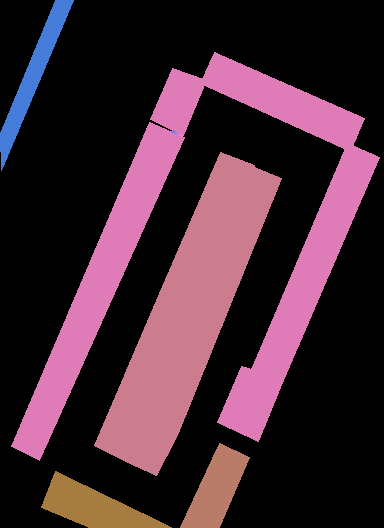parkingspot: (11, 122, 184, 460), (94, 152, 254, 461), (217, 143, 379, 441), (125, 167, 281, 475), (200, 52, 364, 151), (0, 0, 73, 170), (41, 471, 171, 527), (180, 443, 249, 527), (150, 68, 206, 135)
